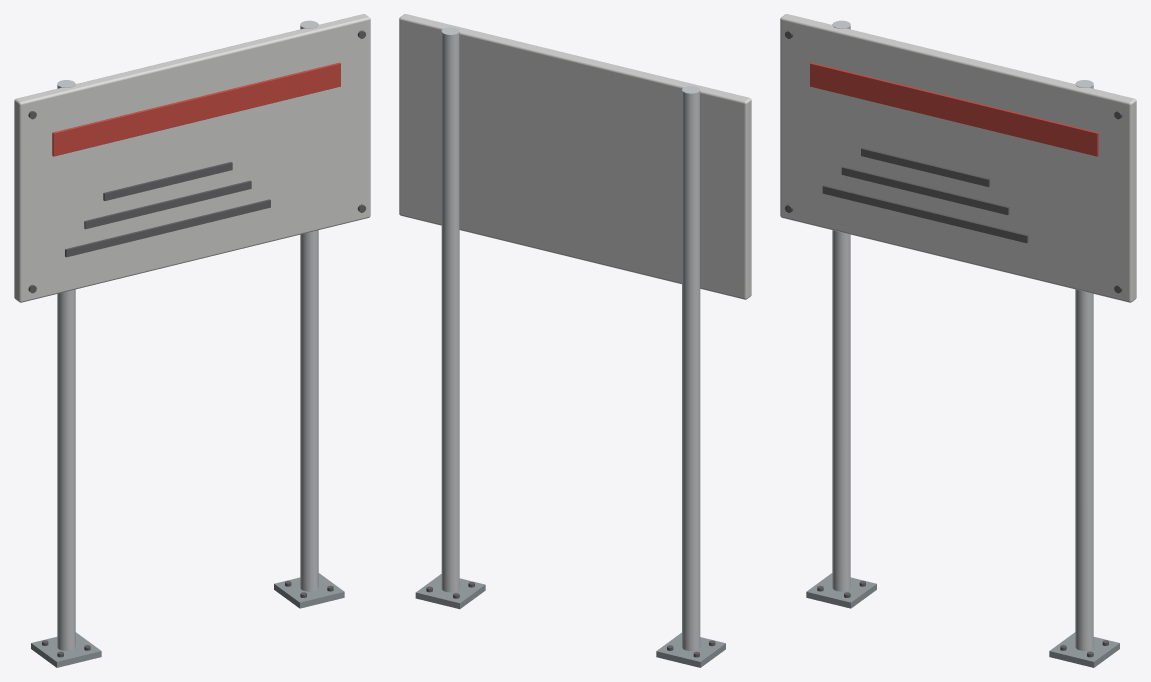
File: prison-complex-builder-restricted-access-sign-986e0e11__25662.glb
The picture shows the model from 3 angles, left to right: view 1: azimuth 30°, elevation 25°; view 2: azimuth 150°, elevation 25°; view 3: azimuth 330°, elevation 25°; orthographic projection.
Parts seen in each view (by area): view 1: restricted-access-sign; view 2: restricted-access-sign; view 3: restricted-access-sign.
Boxes of the visible parts, left/top/right/bottom form: restricted-access-sign: left=14, top=14, right=370, bottom=667; restricted-access-sign: left=399, top=14, right=751, bottom=667; restricted-access-sign: left=780, top=14, right=1136, bottom=667.
Size of the model in its own units: 1.1 by 1.7 by 0.14.
